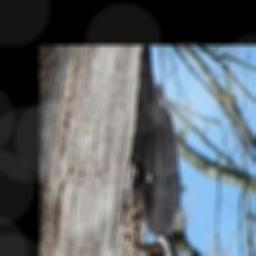Woodpecker: (128, 83, 188, 256)
